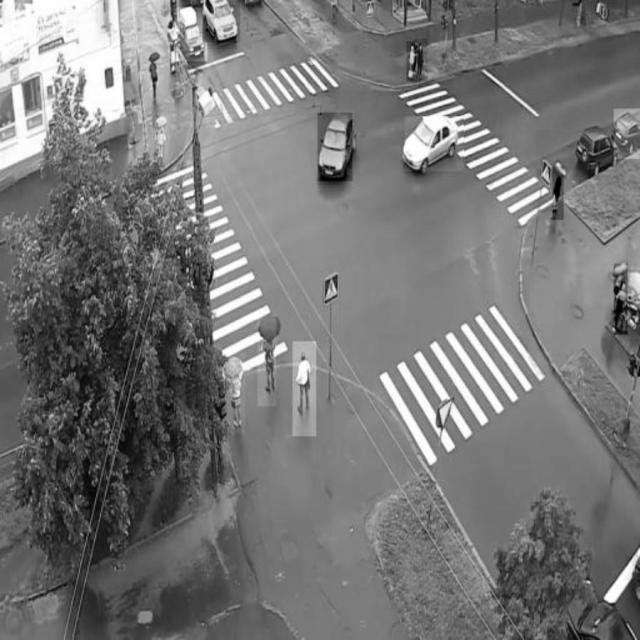person: (293, 342, 317, 436), (257, 315, 275, 406), (227, 353, 245, 434), (142, 48, 160, 114), (614, 264, 628, 335), (152, 115, 169, 169), (553, 167, 563, 221), (415, 39, 427, 83), (406, 41, 416, 81)
vehicle: (405, 117, 463, 172), (317, 113, 353, 181), (575, 128, 619, 174), (175, 7, 209, 61), (203, 1, 240, 43), (614, 109, 640, 159)
